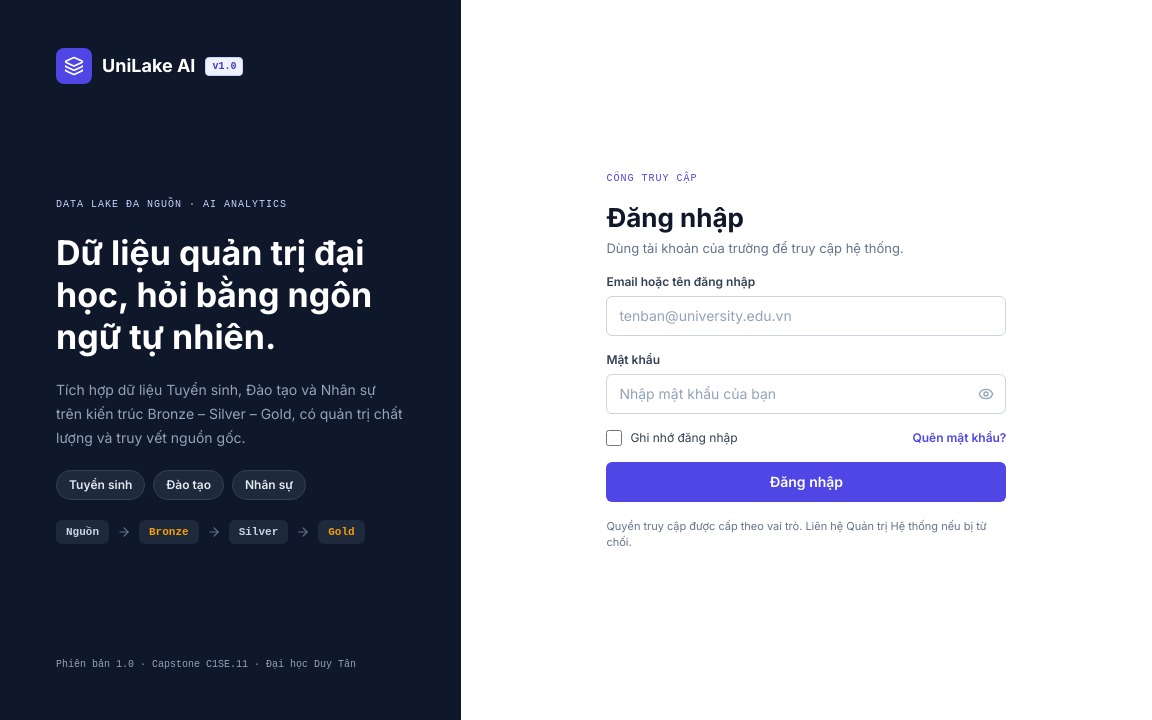
Test: LoginView › báo lỗi từng trường khi để trống và không gọi API
Click the button "Đăng nhập" at point(806, 482), box [606,462,1006,502]
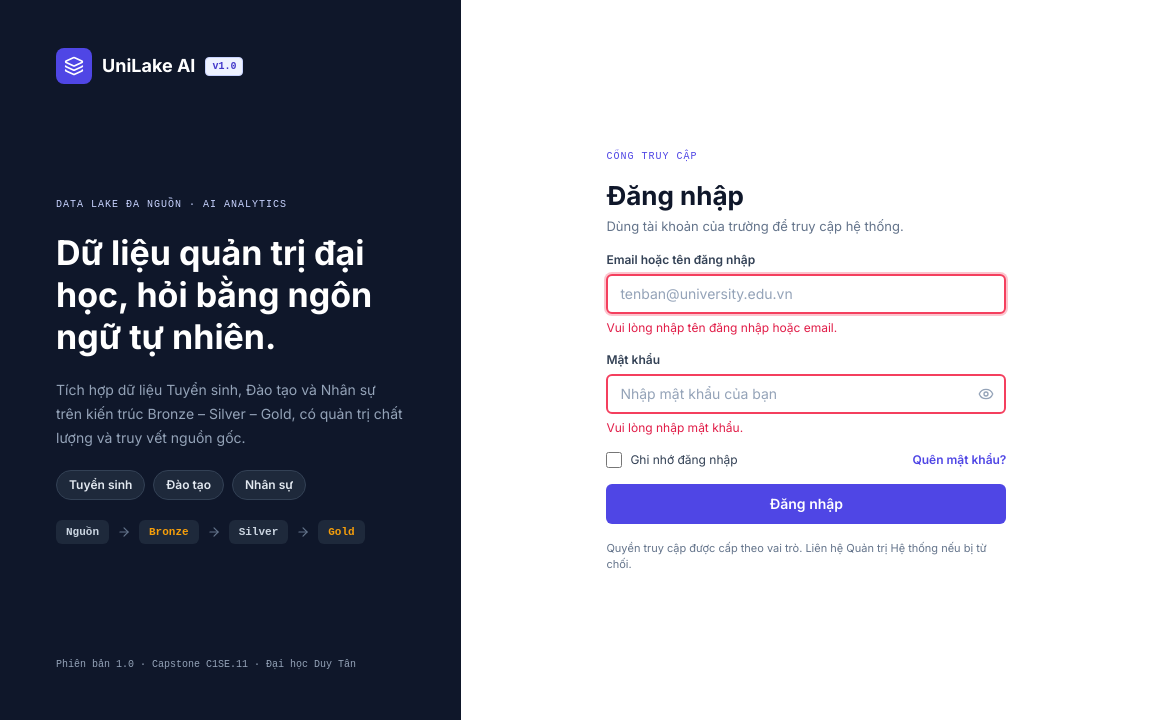
Result: the text "Vui lòng nhập tên đăng nhập hoặc email." is shown at [606,320,837,334]
Result: the text "Vui lòng nhập mật khẩu." is shown at [606,420,743,434]
